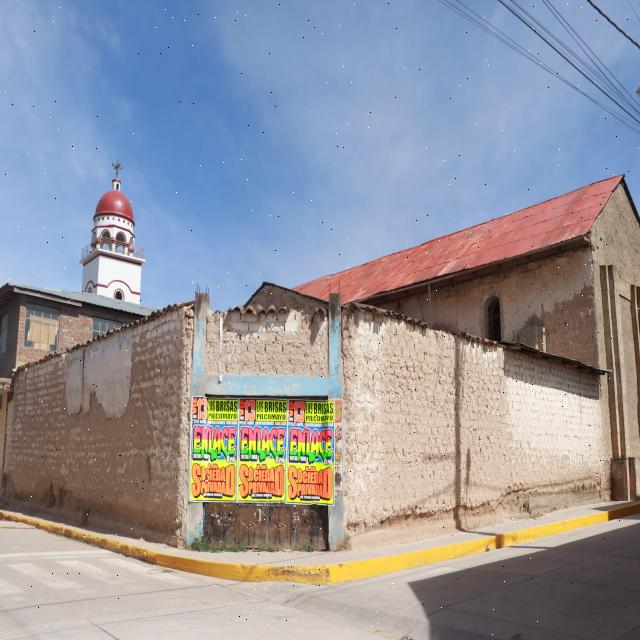CAMPANARIO: (58, 244, 158, 312)
CUPULA: (72, 153, 146, 257)
